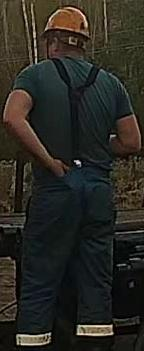helmet: (40, 5, 91, 39)
